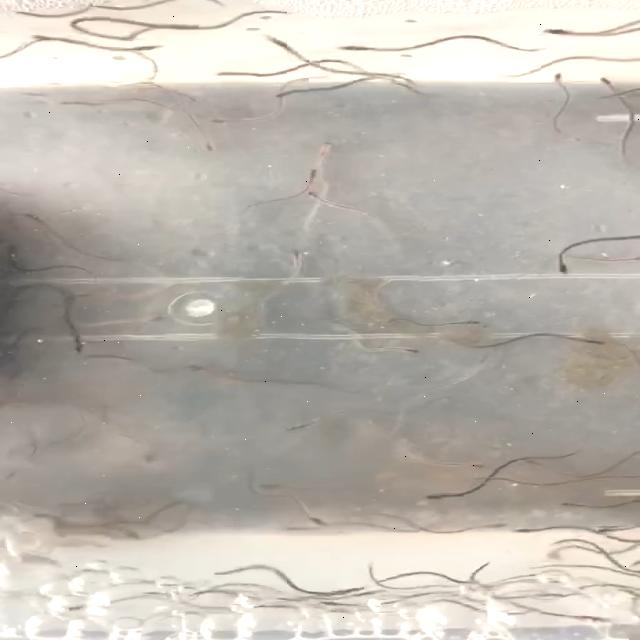active_glass_eel: (208, 556, 252, 582), (276, 410, 310, 442), (532, 24, 584, 44), (174, 140, 238, 154), (526, 264, 582, 280), (336, 40, 388, 56), (291, 168, 337, 186), (417, 492, 457, 512), (498, 525, 550, 540), (299, 188, 345, 202), (184, 356, 216, 376), (385, 342, 427, 357), (216, 67, 250, 85), (300, 510, 334, 528), (484, 515, 514, 535), (309, 140, 351, 154), (205, 112, 237, 130), (68, 338, 100, 356), (554, 495, 580, 517), (278, 246, 312, 262), (579, 334, 607, 352), (263, 31, 294, 47), (454, 314, 487, 328), (15, 206, 48, 220), (550, 65, 571, 83), (598, 75, 624, 89), (144, 41, 156, 57)
